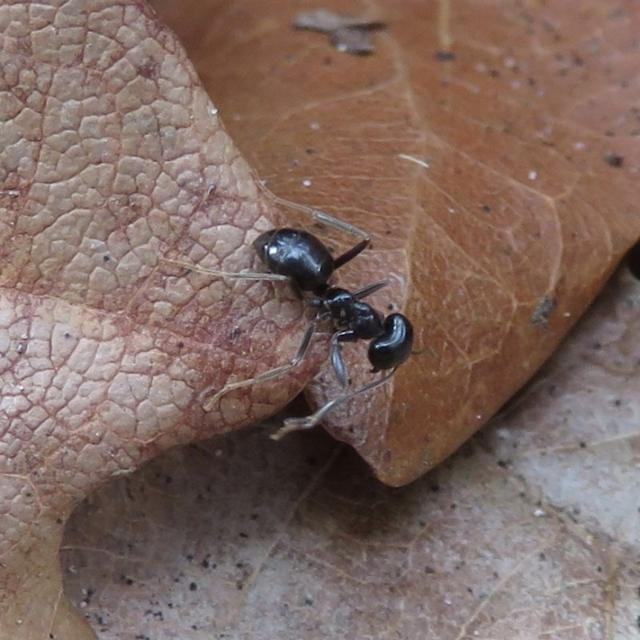Lasius: (226, 168, 434, 394)
